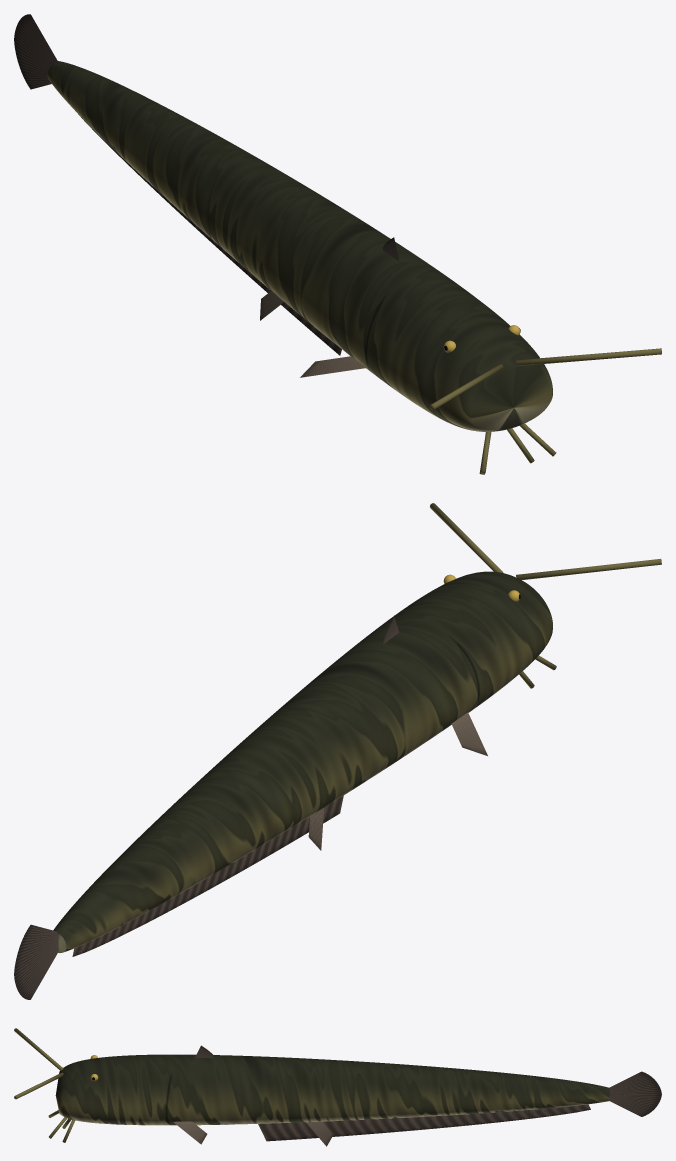
Rendered from som.obj.
3 renders of one model, top to bottom at view 1: azimuth 30°, elevation 25°; view 2: azimuth 150°, elevation 25°; view 3: azimuth 270°, elevation 25°, orthographic. The views are drawn at different scales.
Visible parts, largest first — view 1: body, fin_tail, fin_anal0, barbel0, fin_pect_R; view 2: body, fin_anal0, fin_tail, barbel1, fin_pect_R; view 3: body, fin_anal0, fin_tail, fin_pect_L, fin_pelv_L, barbel1, barbel0.
Boxes of the visible parts, x1,y1,x2,y2 form: body: (47,61,552,431); fin_tail: (14,14,57,89); fin_anal0: (78,114,341,355); barbel0: (516,348,661,366); fin_pect_R: (300,356,366,377); body: (53,571,552,953); fin_anal0: (72,795,343,956); fin_tail: (14,924,58,999); barbel1: (516,559,661,579); fin_pect_R: (451,712,487,755); body: (55,1054,609,1125); fin_anal0: (258,1104,590,1141); fin_tail: (609,1071,661,1116); fin_pect_L: (173,1121,207,1144); fin_pelv_L: (306,1121,333,1146); barbel1: (14,1028,63,1070); barbel0: (14,1072,63,1099).
Size of the model in its own units: 0.3759 by 0.2453 by 1.5.
6 materials, 3 textured.
